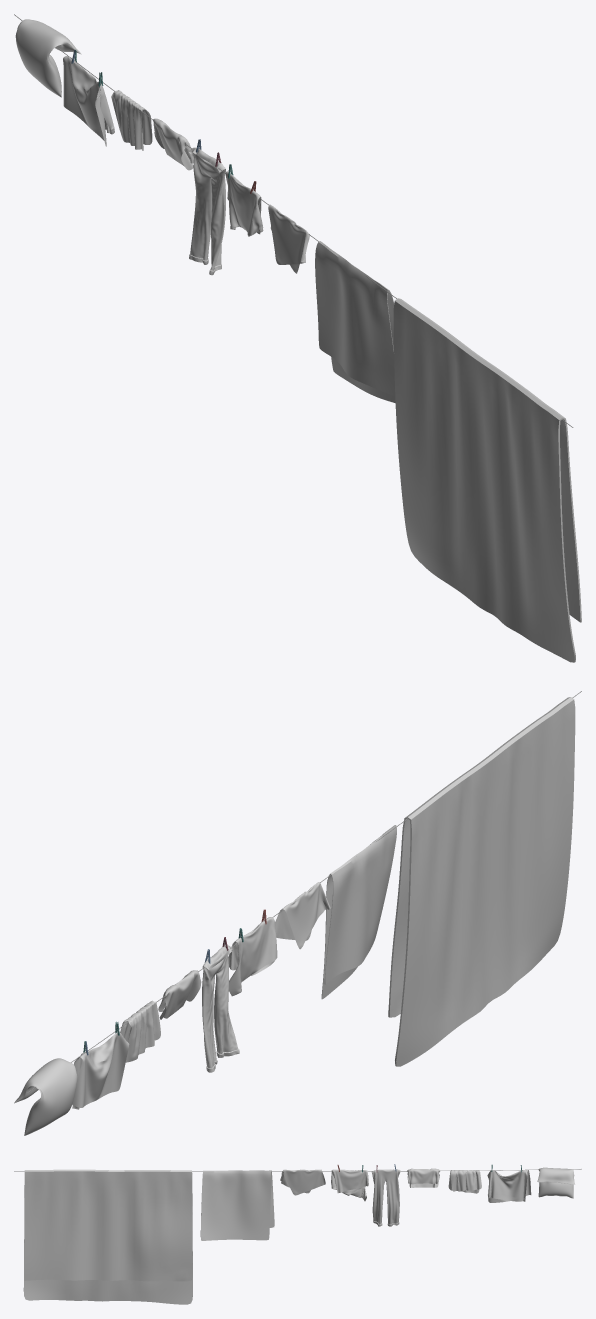
File: Clothes.fbx
3 renders of one model, top to bottom at view 1: azimuth 30°, elevation 25°; view 2: azimuth 150°, elevation 25°; view 3: azimuth 270°, elevation 25°, orthographic. The views are drawn at different scales.
Parts seen in each view (by area): view 1: Clothes_ModelMain; view 2: Clothes_ModelMain; view 3: Clothes_ModelMain.
Part boxes in pixels (left/top/right/bottom): Clothes_ModelMain: left=15, top=19, right=581, bottom=662; Clothes_ModelMain: left=14, top=697, right=575, bottom=1135; Clothes_ModelMain: left=23, top=1167, right=575, bottom=1304.
Size of the model in its own units: 28.22 by 179 by 670.
